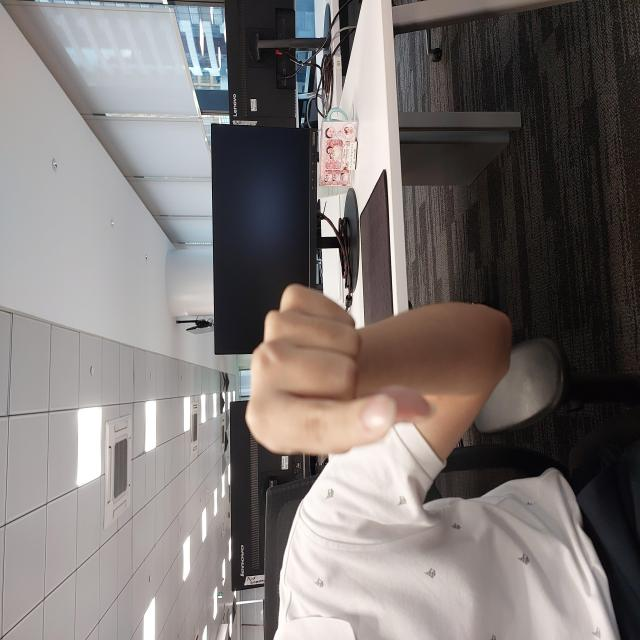Z: (182, 245, 358, 398)
